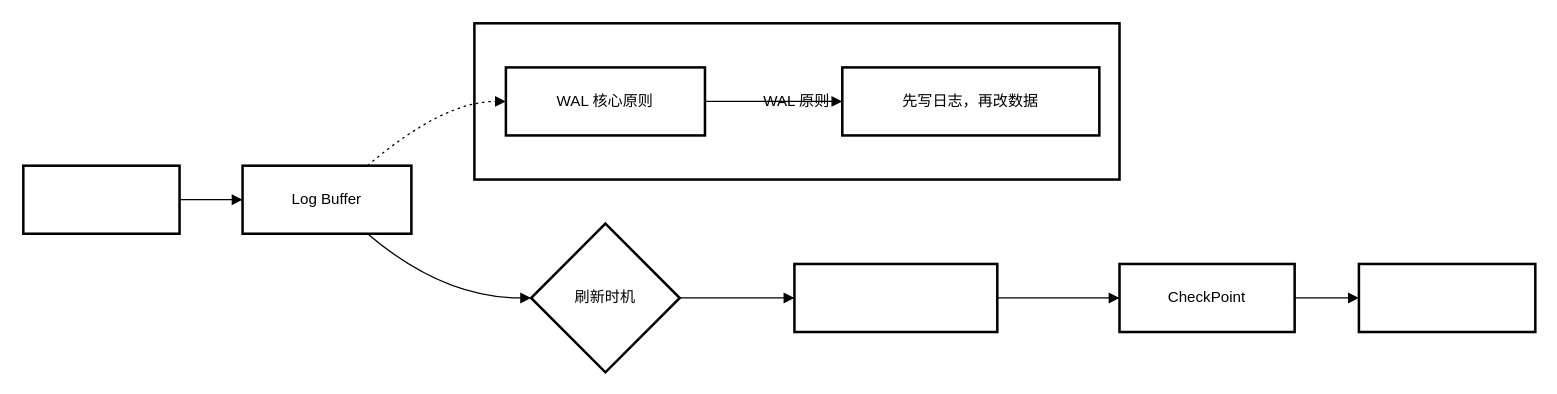
Image size: 1557x394. Some labels were removed from this diagram. The box of each missing label's shape, as (x1, y1, x2, y2) in pixels:
Redo Log 文件: (793, 262, 998, 333)
事务修改: (21, 164, 180, 234)
数据页落盘: (1357, 262, 1536, 333)
